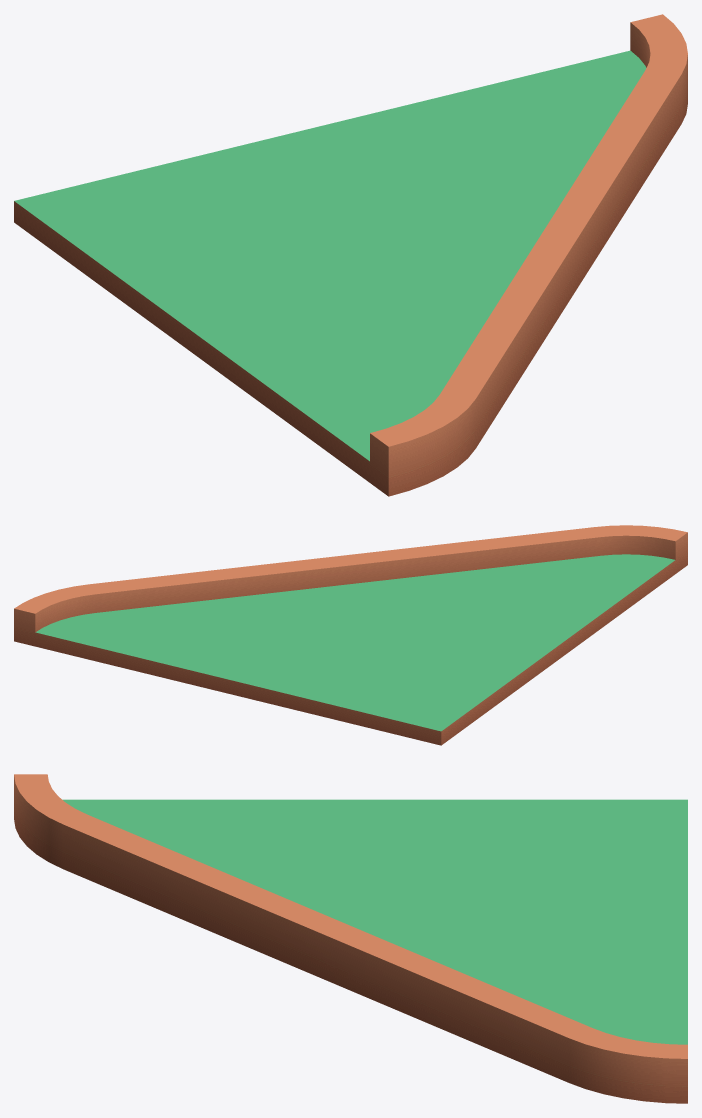
The model's file is skew-large-corner-open.glb.
3 views of the same model, one above another, from view 1: azimuth 30°, elevation 25°; view 2: azimuth 150°, elevation 25°; view 3: azimuth 270°, elevation 25° (orthographic). The views are drawn at different scales.
Parts seen in each view (by area): view 1: skew-large-corner-open; view 2: skew-large-corner-open; view 3: skew-large-corner-open.
Part boxes in pixels (<box>): skew-large-corner-open: <box>14,14,687,496</box>; skew-large-corner-open: <box>14,525,687,745</box>; skew-large-corner-open: <box>14,774,687,1103</box>.
Size of the model in its own units: 2 by 0.1467 by 2.
Materials: 1 (1 with a texture image).
